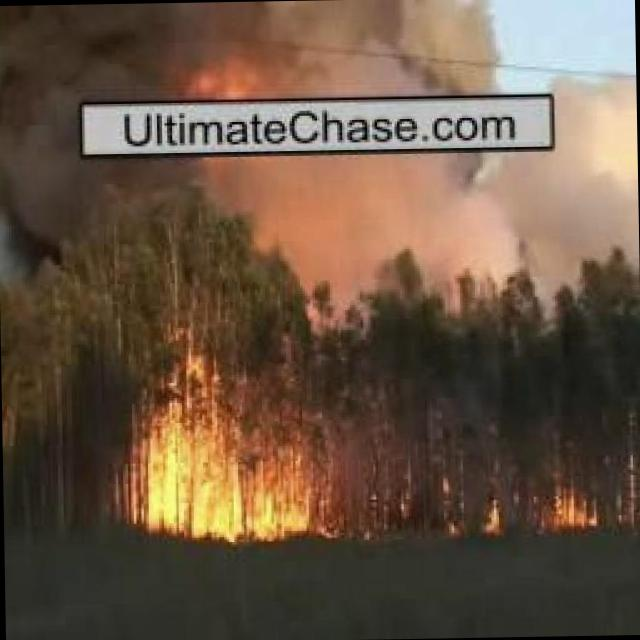Fire: (120, 348, 337, 544), (434, 463, 504, 542), (549, 474, 602, 536)
Smoke: (0, 145, 639, 282), (0, 0, 512, 107)
